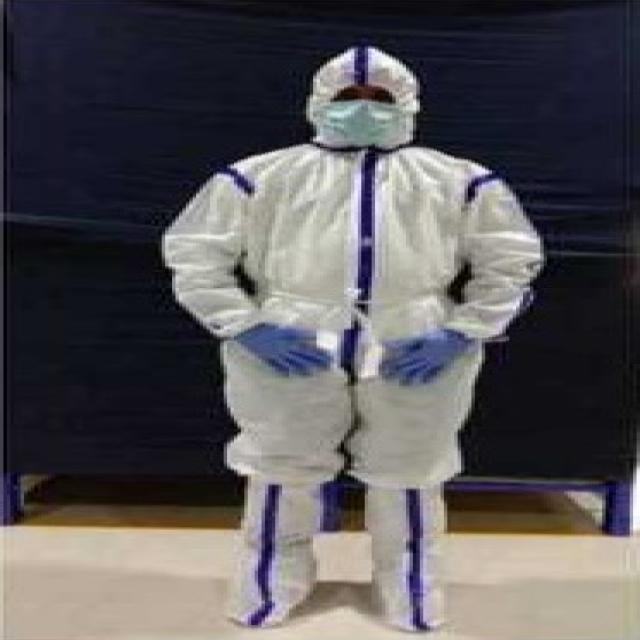Coverall: (141, 31, 523, 620)
Gloves: (155, 314, 530, 383)
Mask: (292, 102, 440, 159)
